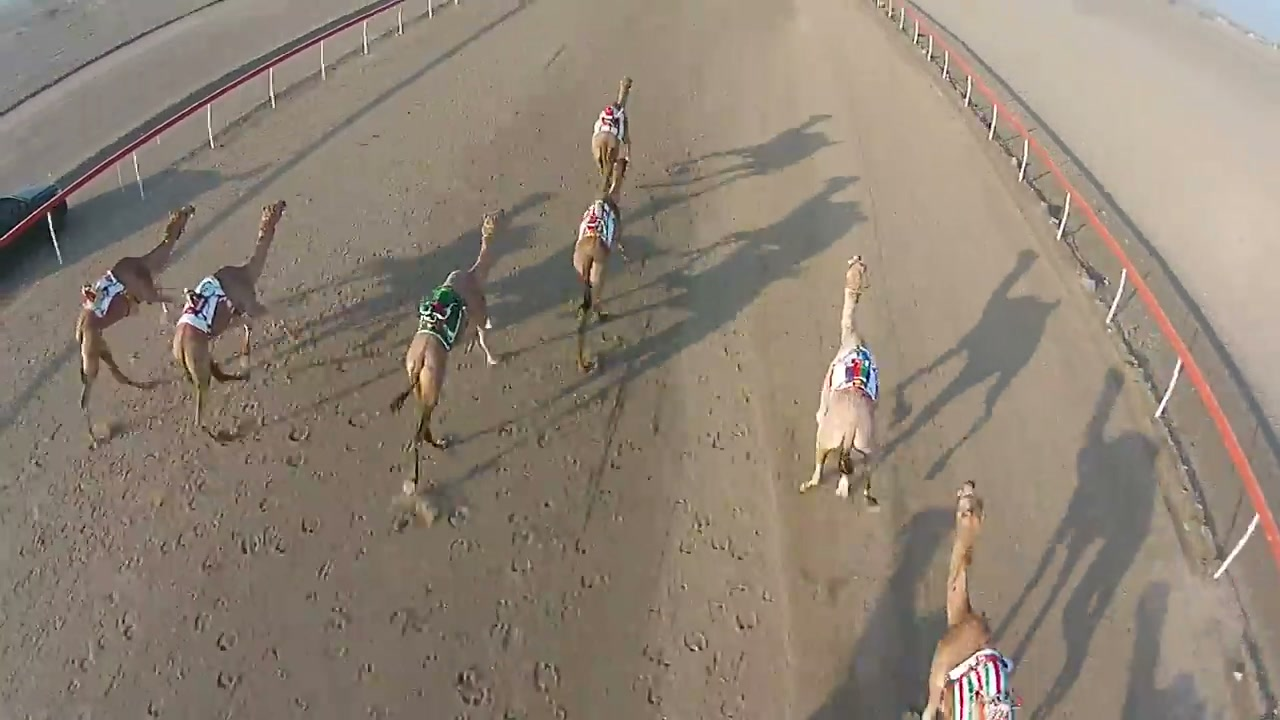animal_foot_print: (0, 398, 506, 718), (495, 338, 789, 704)
